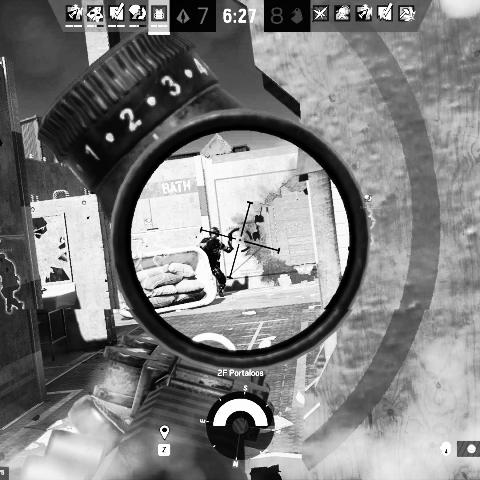Character: (199, 226, 234, 298)
Friend_label: (360, 194, 378, 211), (140, 218, 155, 232), (0, 240, 13, 254)
Head: (208, 227, 220, 239)
